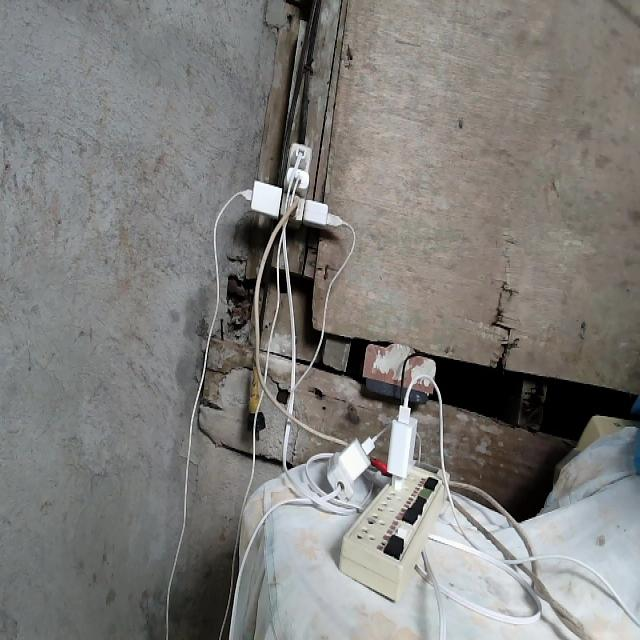-: (224, 132, 349, 248)
